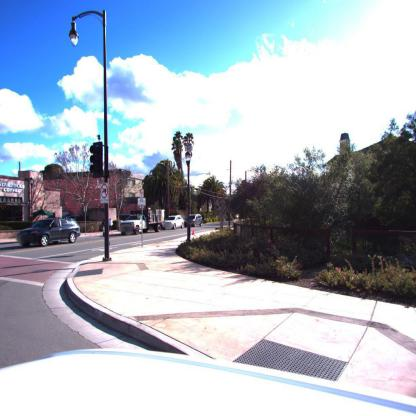car: (16, 219, 81, 248), (161, 217, 184, 231), (186, 215, 204, 227)
traffic light: (89, 141, 103, 177)
truck: (119, 212, 146, 235)
